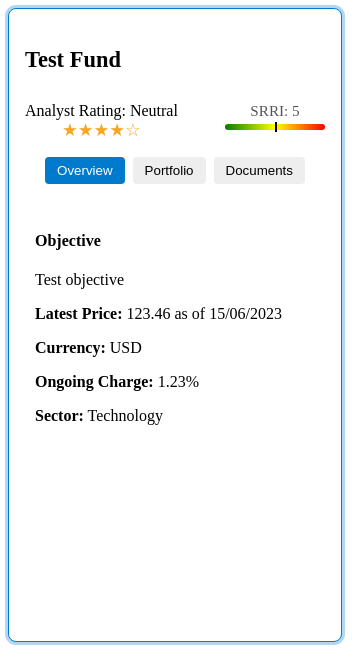
it: FundCard › renders the tabs and changes tab on click
The width and height of the screenshot is (362, 662).
Check: the tab "Overview" is shown, box [45, 157, 125, 184]
Check: the text "Test objective" is shown, box [35, 271, 124, 288]
Click the tab "Portfolio" at (169, 171), box [133, 157, 206, 184]
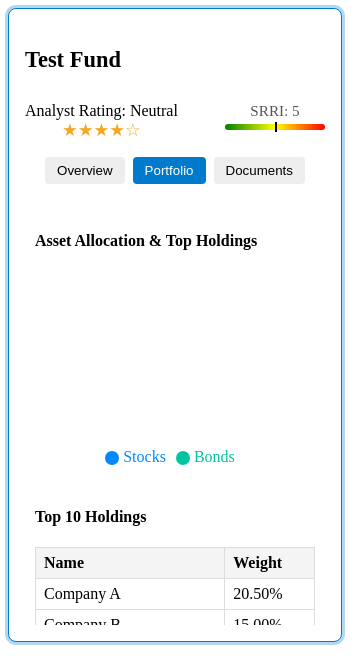
Check: the heading "Asset Allocation & Top Holdings" is shown, box [35, 232, 257, 249]
Click the tab "Documents" at (259, 171), box [214, 157, 305, 184]
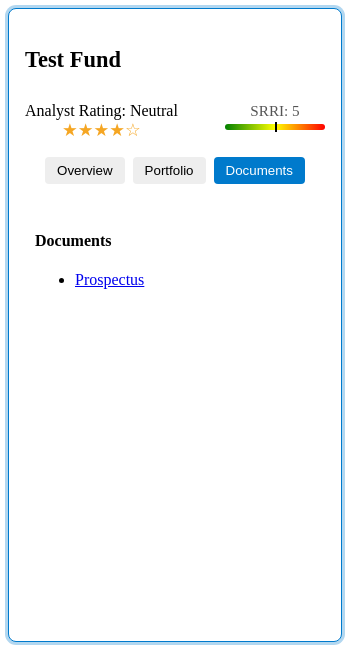
Check: the link "Prospectus" is shown, box [75, 271, 144, 288]
